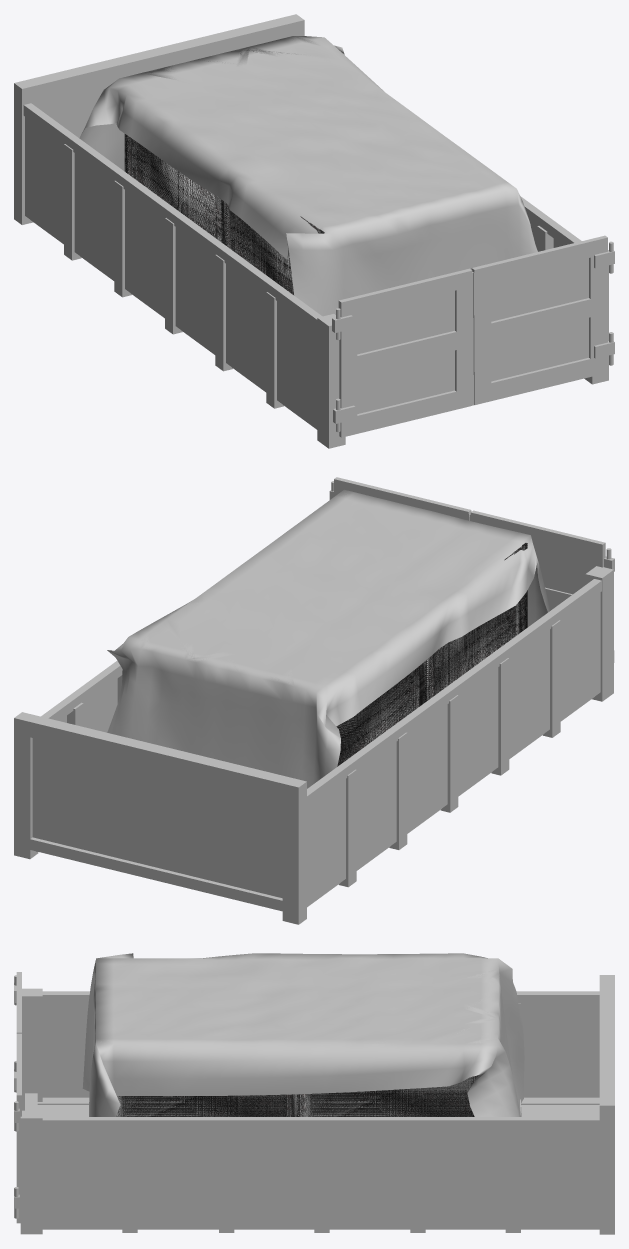
The model's file is truck loader.fbx.
3 renders of one model, top to bottom at view 1: azimuth 30°, elevation 25°; view 2: azimuth 150°, elevation 25°; view 3: azimuth 270°, elevation 25°, orthographic. The views are drawn at different scales.
Visible parts, largest first — view 1: Loader, Cargo; view 2: Loader, Cargo; view 3: Loader, Cargo.
Boxes of the visible parts, x1,y1,x2,y2 form: Loader: (14, 14, 614, 448); Cargo: (79, 36, 537, 316); Loader: (14, 477, 614, 924); Cargo: (107, 489, 550, 788); Loader: (14, 972, 614, 1234); Cargo: (82, 953, 524, 1116).
Size of the model in its own units: 31.34 by 18.57 by 60.7.
